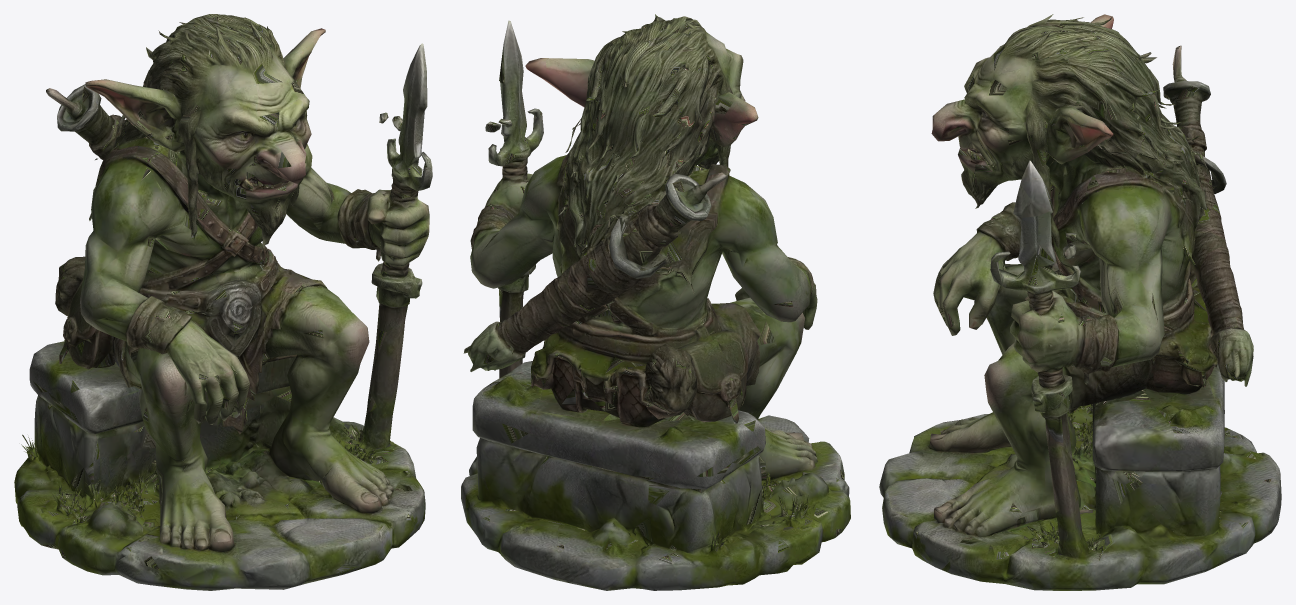
The model's file is goblin.glb.
3 renders of one model, left to right at view 1: azimuth 30°, elevation 25°; view 2: azimuth 150°, elevation 25°; view 3: azimuth 270°, elevation 25°, orthographic. The views are drawn at different scales.
Bounding box in the file's own units: 1.45 × 1.9 × 1.41.
Materials: 1 (1 with a texture image).
